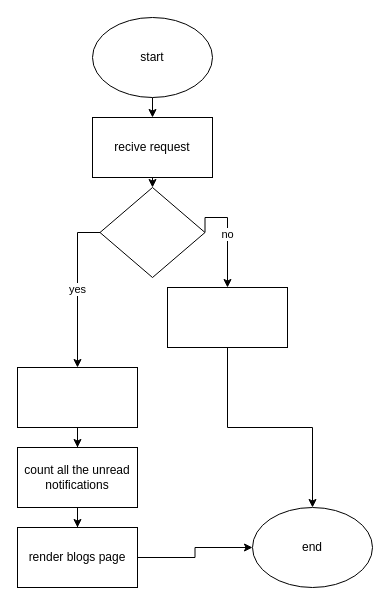
Some shapes in this 390 by 605 pixel diagram are drawn without their labels. Here are the shapes that lost their labels. From the top down, the centre of each, then its label:
the point at 152,232: user logged in
the point at 227,317: redirect to login page
the point at 77,397: fetch al the users posts
